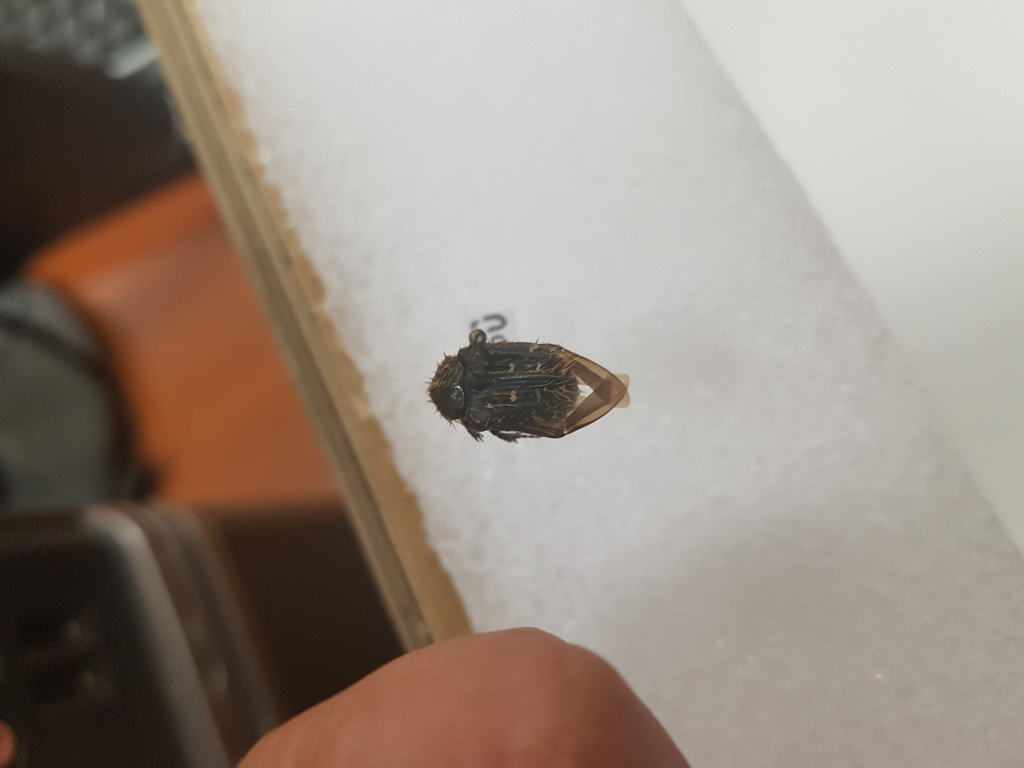Tropinota_hirta: (421, 330, 644, 449)
